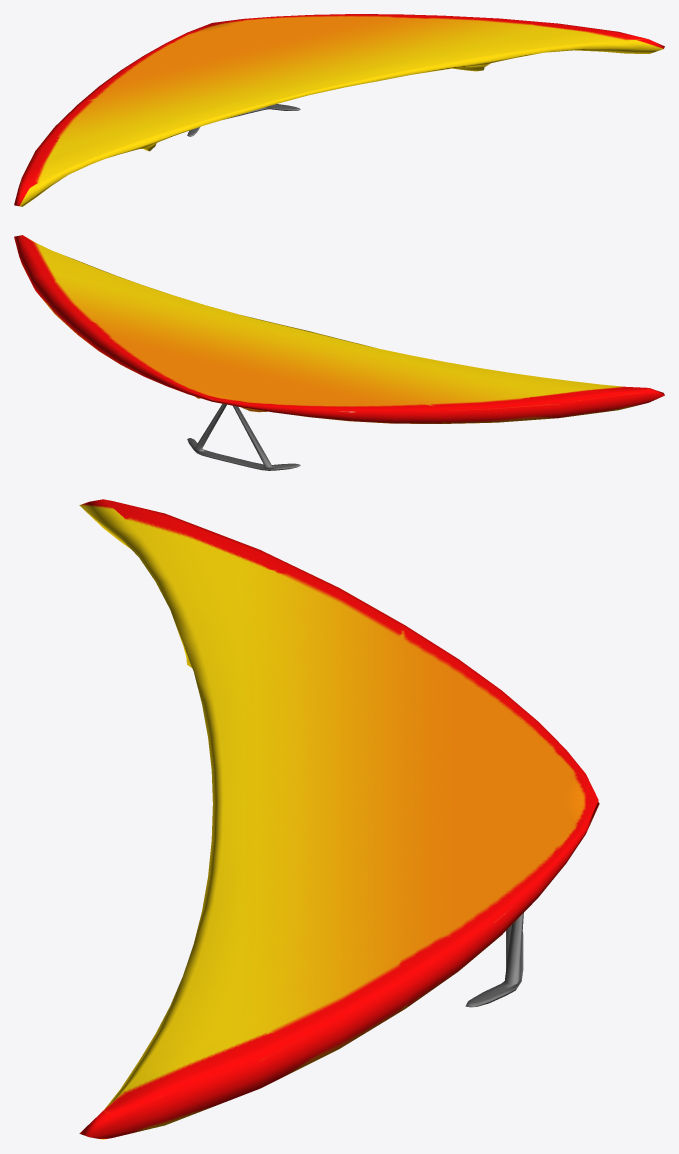
File: GliderModel.fbx
3 views of the same model, one above another, from view 1: azimuth 30°, elevation 25°; view 2: azimuth 150°, elevation 25°; view 3: azimuth 270°, elevation 25° (orthographic). The views are drawn at different scales.
Parts seen in each view (by area): view 1: polySurface1; view 2: polySurface1; view 3: polySurface1.
Boxes of the visible parts, box(x1,y1,x2,y2) form: polySurface1: box(14, 14, 664, 206); polySurface1: box(14, 235, 664, 470); polySurface1: box(79, 499, 599, 1139).
Size of the model in its own units: 8.19 by 0.9388 by 2.83.
1 material, 1 textured.
